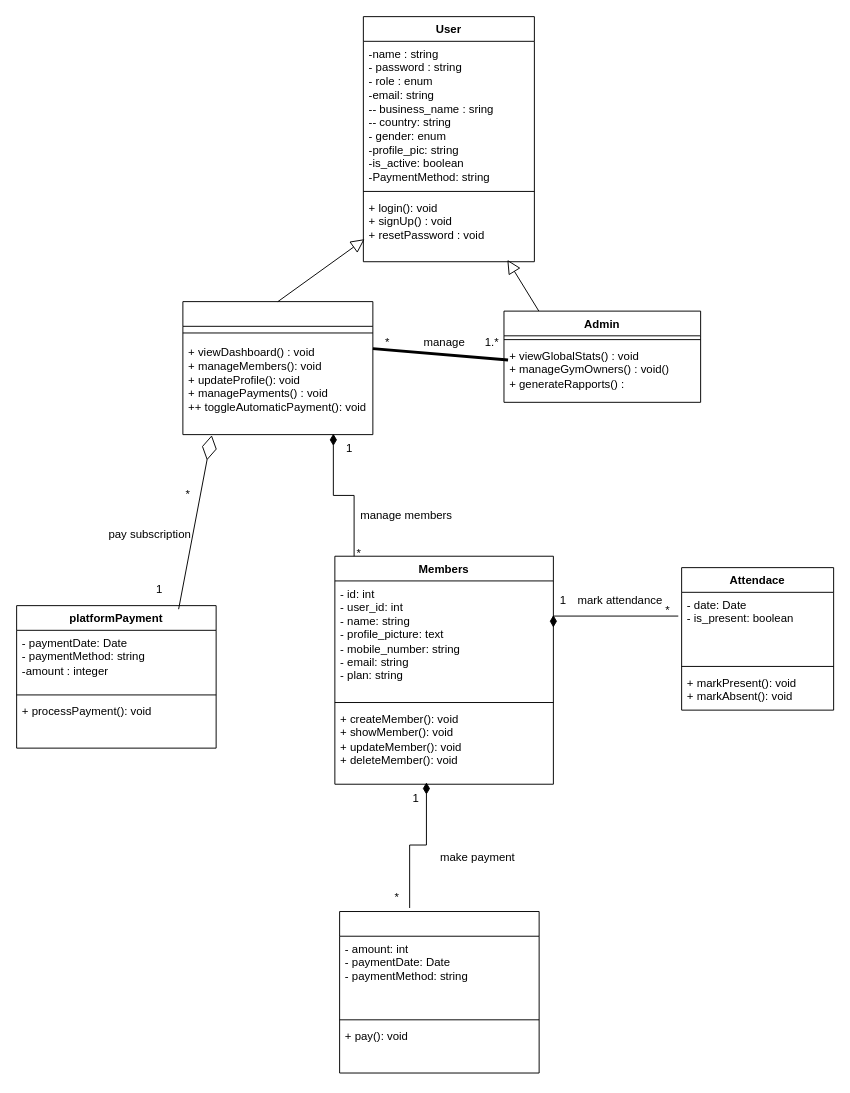
Image size: 850x1093. Some labels were removed from this diagram. The shapes that lost their labels are listed below. From the top down, each one's box as (x1, y1, x2, y2) in pixels, then its label:
(182, 301, 373, 435): GymOwner
(339, 911, 539, 1073): memberPayment
